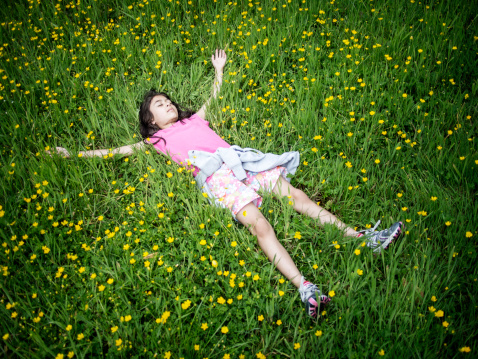deitado: (126, 60, 374, 325)
